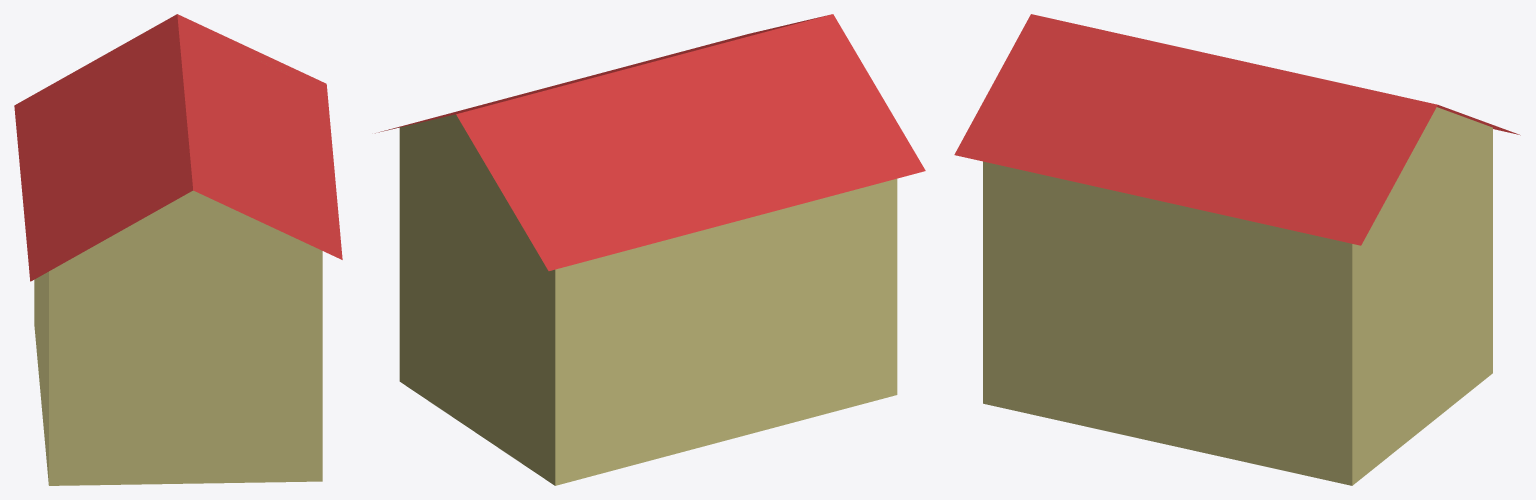
The picture shows the model from 3 angles, left to right: view 1: azimuth 30°, elevation 25°; view 2: azimuth 150°, elevation 25°; view 3: azimuth 270°, elevation 25°; orthographic projection. The views are drawn at different scales.
Bounding box in the file's own units: 12.16 × 13.29 × 8.57.
